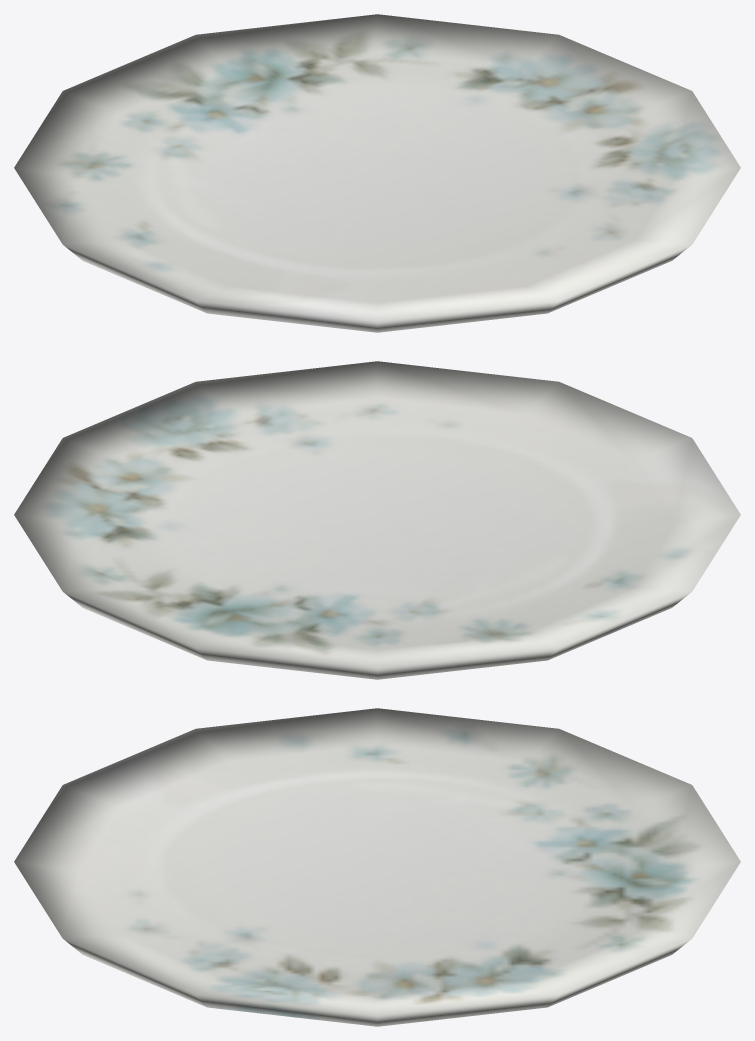
Rendered from plate.obj.
3 renders of one model, top to bottom at view 1: azimuth 30°, elevation 25°; view 2: azimuth 150°, elevation 25°; view 3: azimuth 270°, elevation 25°, orthographic.
Visible parts, largest first — view 1: plate; view 2: plate; view 3: plate.
Part boxes in pixels (x1,y1,x2,y2): plate: [14, 14, 740, 332]; plate: [14, 361, 740, 679]; plate: [14, 708, 740, 1026].
Bounding box in the file's own units: 0.4288 × 0.0138 × 0.4288.
1 material, 1 textured.
